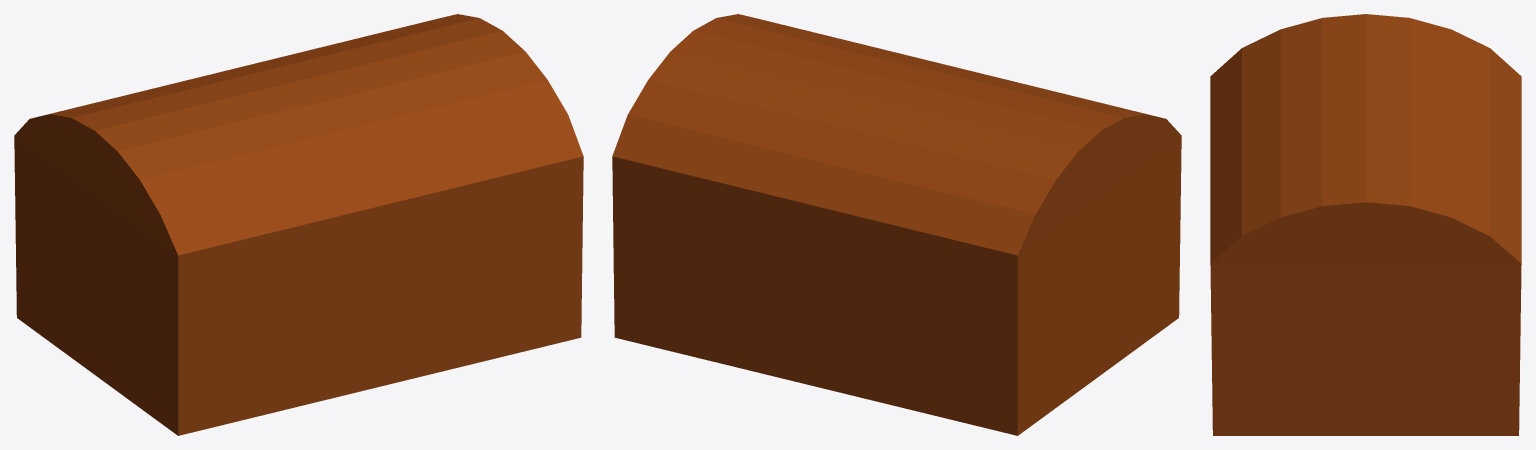
File: chest.glb
3 views of the same model, side by side, from view 1: azimuth 30°, elevation 25°; view 2: azimuth 150°, elevation 25°; view 3: azimuth 270°, elevation 25° (orthographic). The views are drawn at different scales.
Visible parts, largest first — view 1: Cube; view 2: Cube; view 3: Cube.
Boxes of the visible parts, left/top/right/bottom form: Cube: left=14, top=14, right=583, bottom=435; Cube: left=612, top=14, right=1181, bottom=435; Cube: left=1210, top=14, right=1521, bottom=435.
Size of the model in its own units: 0.8431 by 0.4886 by 0.5869.
